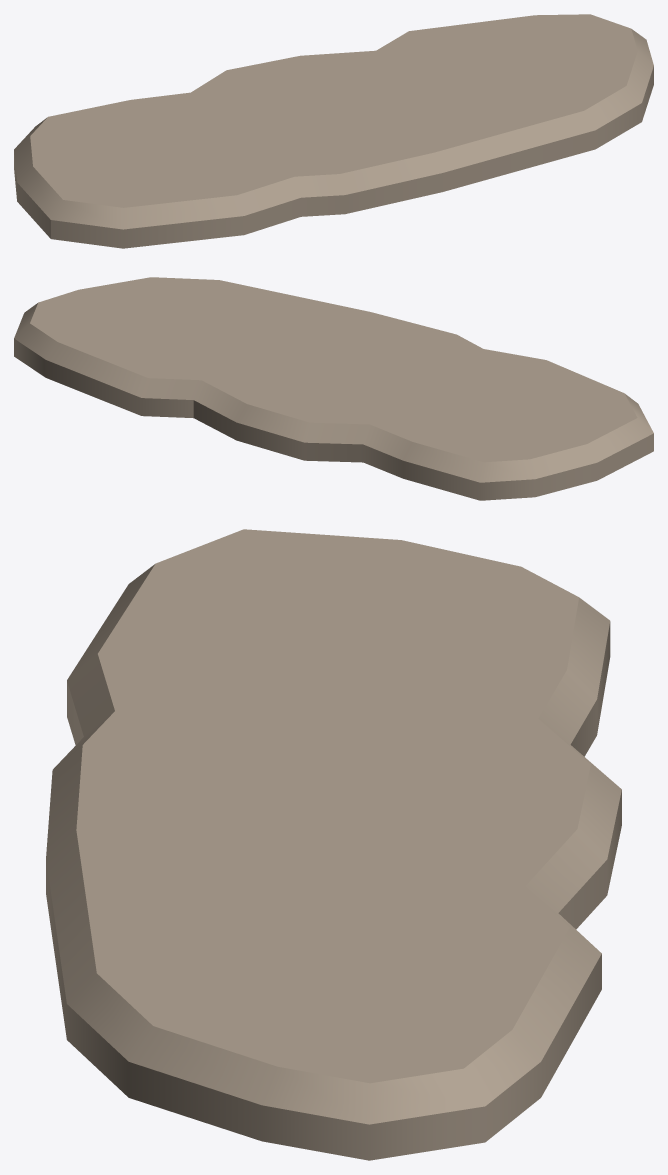
Rendered from Soil Step 01.FBX.
The picture shows the model from 3 angles, top to bottom: view 1: azimuth 30°, elevation 25°; view 2: azimuth 150°, elevation 25°; view 3: azimuth 270°, elevation 25°; orthographic projection. The views are drawn at different scales.
Visible parts, largest first — view 1: Soil Step 01; view 2: Soil Step 01; view 3: Soil Step 01.
Part boxes in pixels (left/top/right/bottom): Soil Step 01: left=14, top=14, right=653, bottom=248; Soil Step 01: left=14, top=277, right=653, bottom=500; Soil Step 01: left=46, top=529, right=621, bottom=1160.
Size of the model in its own units: 432 by 22.04 by 181.
Materials: 1 (1 with a texture image).
